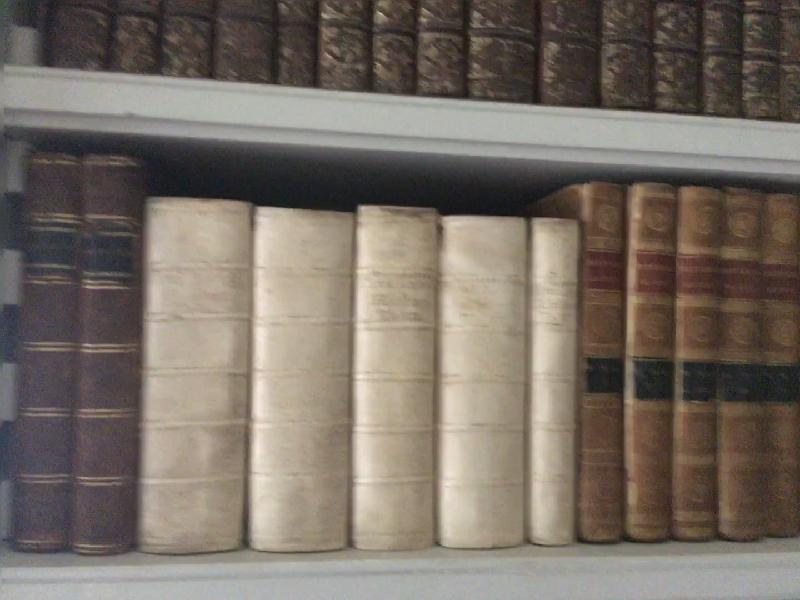Kk4-1_2: (5, 144, 168, 568)
Kk4-3_7: (130, 181, 582, 561)
Kk4-8_13: (570, 171, 800, 555)
